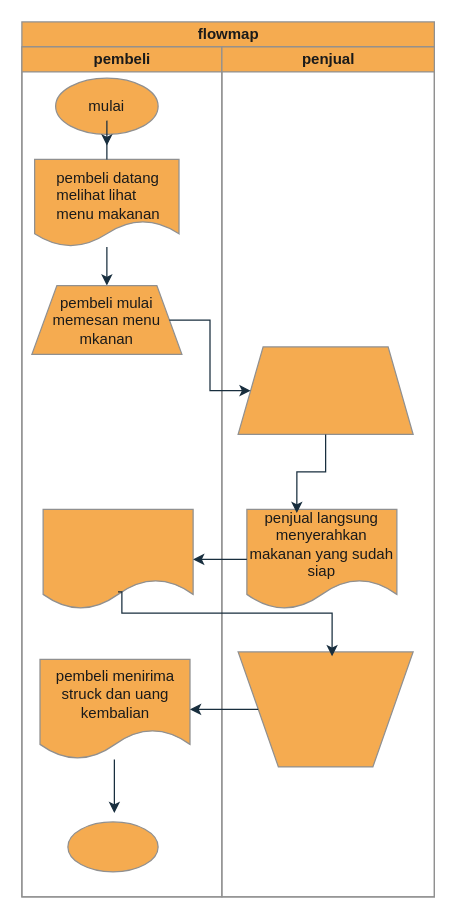
This 456x919 diagram has some shape labels left out. The shapes that lost their labels are listed below. From the top down, each one's centre as x and y in pixels, then its label:
point 325,390: penjual langsung menyiapkan menu makanan untuk membeli
point 117,558: pembeli menerima pesanan dan langsung membayar makanan
point 325,709: penjual menerima uang dan siap memberi struck dan uang kembalian
point 112,846: selesai
